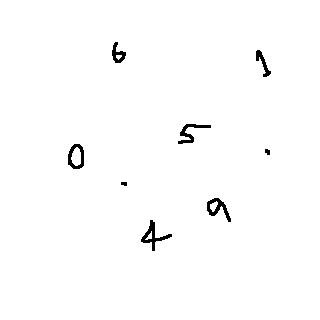.: (116, 175, 136, 192), (260, 145, 275, 161)
0: (60, 136, 94, 176)
1: (246, 45, 281, 82)
4: (136, 216, 177, 252)
5: (172, 118, 219, 155)
6: (106, 34, 130, 77)
9: (204, 190, 234, 230)
